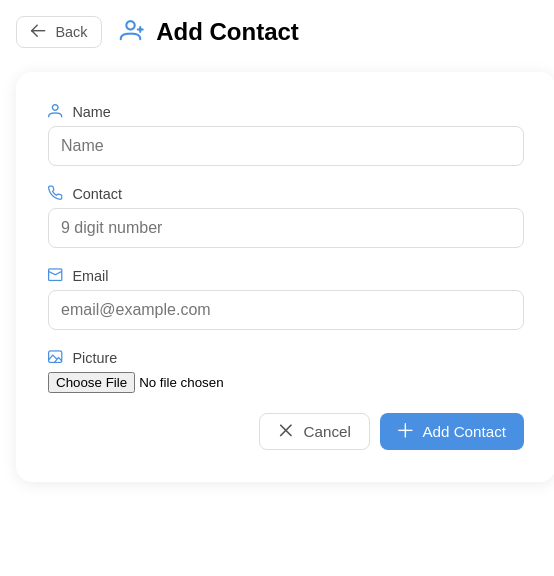
Test: ContactForm validation › shows error when name is 5 characters or less
Type "John" into the field with placeholder "Name" at {"x": 286, "y": 146}, box x1=48 y1=126 x2=524 y2=166
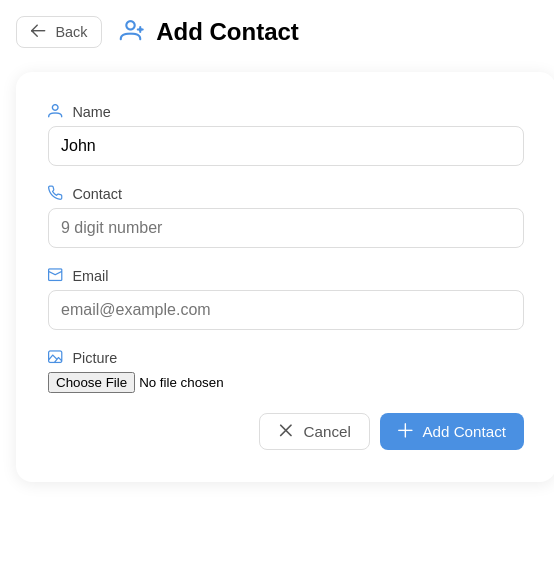
Submit the form, box x1=48 y1=104 x2=524 y2=450
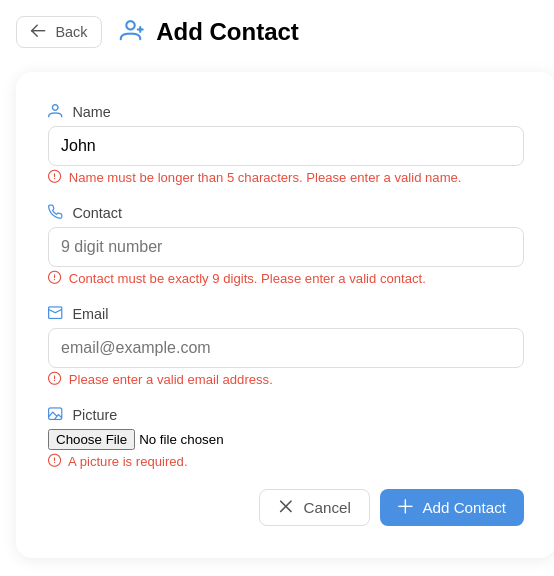
Expected: the text "Name must be longer than 5 characters" is shown, x1=65 y1=170 x2=462 y2=185
